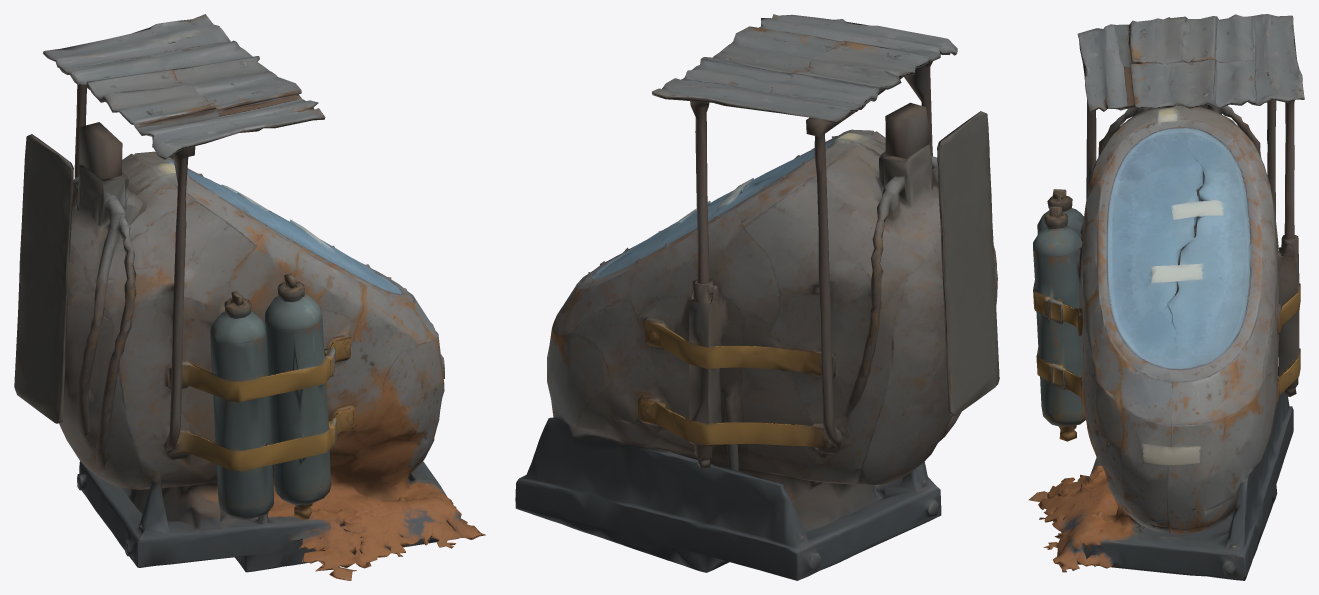
The model's file is pod-p1.glb.
3 views of the same model, side by side, from view 1: azimuth 30°, elevation 25°; view 2: azimuth 150°, elevation 25°; view 3: azimuth 270°, elevation 25° (orthographic). The views are drawn at different scales.
Parts seen in each view (by area): view 1: tripo_node_268c1cf4-684b-466e-a691-3fafb060f86e; view 2: tripo_node_268c1cf4-684b-466e-a691-3fafb060f86e; view 3: tripo_node_268c1cf4-684b-466e-a691-3fafb060f86e.
Boxes of the visible parts, box(x1,y1,x2,y2) form: tripo_node_268c1cf4-684b-466e-a691-3fafb060f86e: box(14, 14, 485, 580); tripo_node_268c1cf4-684b-466e-a691-3fafb060f86e: box(515, 14, 999, 580); tripo_node_268c1cf4-684b-466e-a691-3fafb060f86e: box(1029, 14, 1304, 580).
Size of the model in its own units: 1.08 by 1.2 by 0.7106.
1 material, 1 textured.
